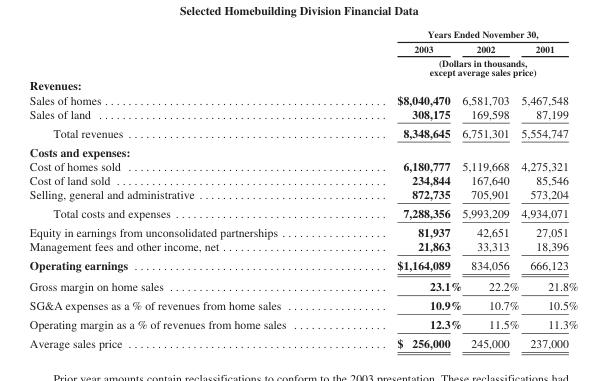table: (28, 28, 577, 349)
table column: (28, 28, 341, 349), (341, 28, 461, 349), (461, 28, 519, 349), (519, 28, 577, 349)
table column header: (28, 28, 577, 77)
table projected row header: (28, 141, 577, 158), (28, 77, 577, 92)
table row: (28, 55, 577, 77), (28, 255, 577, 275), (28, 275, 577, 295), (28, 122, 577, 141), (28, 203, 577, 222), (28, 295, 577, 314), (28, 314, 577, 333), (28, 141, 577, 158), (28, 186, 577, 203), (28, 238, 577, 255), (28, 106, 577, 122), (28, 222, 577, 238), (28, 333, 577, 349), (28, 77, 577, 92), (28, 41, 577, 55), (28, 92, 577, 106), (28, 158, 577, 172), (28, 172, 577, 186), (28, 28, 577, 41)
table spanning cell: (341, 55, 577, 77), (341, 28, 577, 41)
